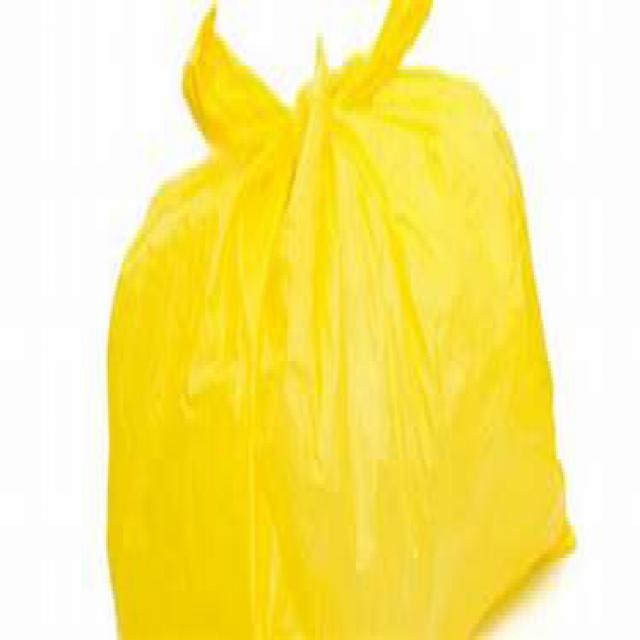waste: (111, 10, 568, 634)
